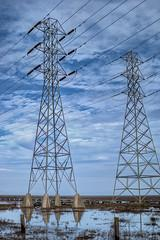power_tower: (23, 14, 89, 214), (112, 50, 160, 205)
